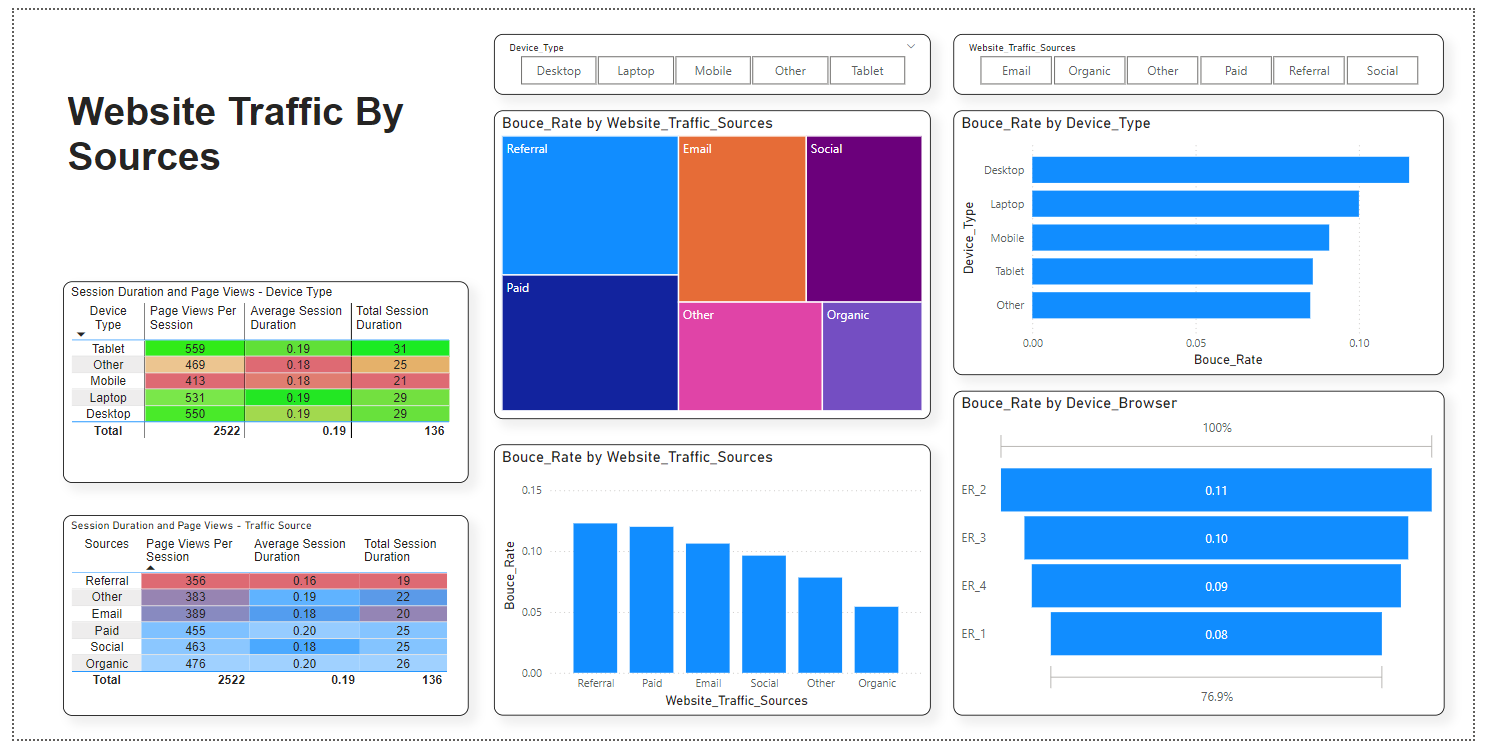

What the dashboard file says about the page in this screenshot:
{"tool":"powerbi","page":{"name":"Website Traffic By Sources","canvas":[1600,800],"ordinal":1},"visuals":[{"type":"textbox","box":[27.6,26.3,602.3,67.1],"z":0},{"type":"tableEx","title":"Session Duration and Page Views - Device Type","fields":{"Values":["Device_Lookup.Device_Type","Sum(Website_Traffic_Data.Page_Views_Per_Session)","#Measures.Average_Session_Duration","#Measures.Total_Session_Duration"]},"box":[47.9,135.9,455.7,207],"z":1000},{"type":"treemap","fields":{"Group":["Source_Lookup.Website_Traffic_Sources"],"Values":["#Measures.Bouce_Rate"]},"box":[548.6,110.2,456.4,339],"z":2000},{"type":"tableEx","title":"Session Duration and Page Views - Traffic Source","fields":{"Values":["Source_Lookup.Website_Traffic_Sources","Sum(Website_Traffic_Data.Page_Views_Per_Session)","#Measures.Average_Session_Duration","#Measures.Total_Session_Duration"]},"box":[1082.8,135.9,409.3,207],"z":3000},{"type":"clusteredBarChart","fields":{"Category":["Device_Lookup.Device_Type"],"Y":["#Measures.Bouce_Rate"]},"box":[27.8,364.5,495.8,409.3],"z":4000},{"type":"clusteredColumnChart","fields":{"Category":["Source_Lookup.Website_Traffic_Sources"],"Y":["#Measures.Bouce_Rate"]},"box":[549.8,476.7,455.2,297],"z":5000},{"type":"funnel","fields":{"Category":["Device_Lookup.Device_Browser"],"Y":["#Measures.Bouce_Rate"]},"box":[1030.2,364.5,539.1,409.3],"z":6000},{"type":"slicer","fields":{"Values":["Device_Lookup.Device_Type"]},"box":[644.3,26.3,423.4,65.7],"z":7000},{"type":"slicer","fields":{"Values":["Source_Lookup.Website_Traffic_Sources"]},"box":[1082.2,26.3,485.2,65.7],"z":8000}]}

Visuals, with their boxes in screenshot pixels (x1, y1, x2, y2), scaled from the page's 1600x800 canvas onto the 1493x750 screenshot:
textbox: x1=26, y1=25, x2=588, y2=88
"Session Duration and Page Views - Device Type" tableEx: x1=45, y1=127, x2=470, y2=321
treemap - Source_Lookup.Website_Traffic_Sources x #Measures.Bouce_Rate: x1=512, y1=103, x2=938, y2=421
"Session Duration and Page Views - Traffic Source" tableEx: x1=1010, y1=127, x2=1392, y2=321
clusteredBarChart - Device_Lookup.Device_Type x #Measures.Bouce_Rate: x1=26, y1=342, x2=489, y2=725
clusteredColumnChart - Source_Lookup.Website_Traffic_Sources x #Measures.Bouce_Rate: x1=513, y1=447, x2=938, y2=725
funnel - Device_Lookup.Device_Browser x #Measures.Bouce_Rate: x1=961, y1=342, x2=1464, y2=725
slicer - Device_Lookup.Device_Type: x1=601, y1=25, x2=996, y2=86
slicer - Source_Lookup.Website_Traffic_Sources: x1=1010, y1=25, x2=1463, y2=86
